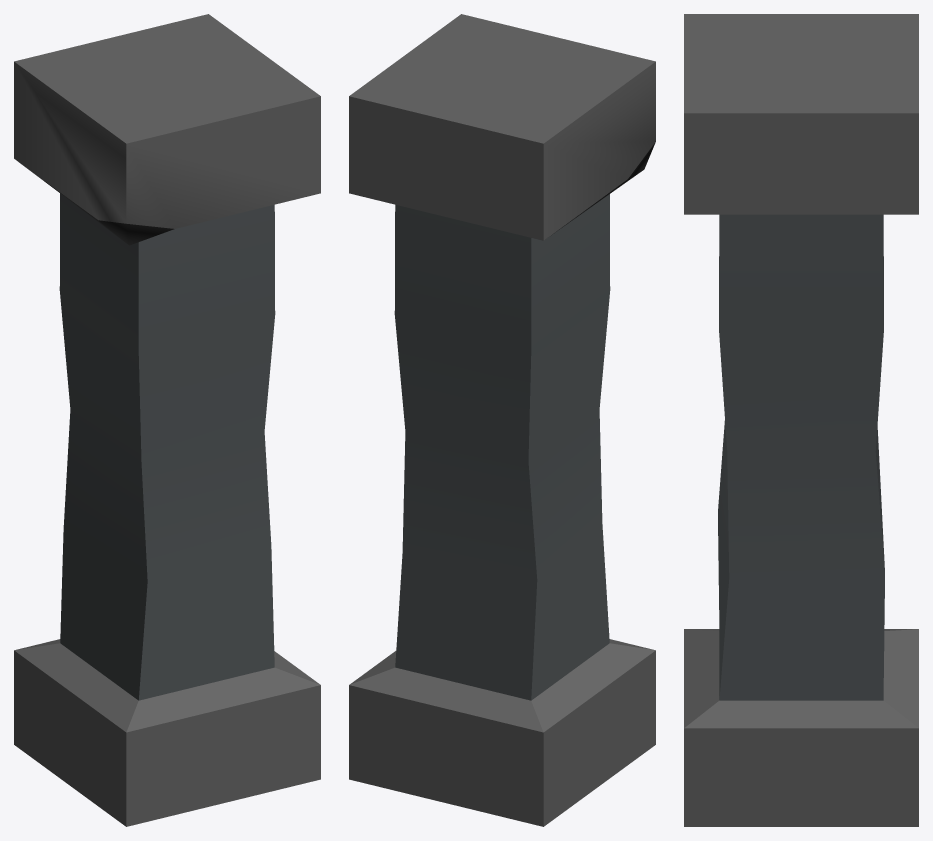
Rendered from Pillar.fbx.
3 renders of one model, left to right at view 1: azimuth 30°, elevation 25°; view 2: azimuth 150°, elevation 25°; view 3: azimuth 270°, elevation 25°, orthographic. The views are drawn at different scales.
Parts seen in each view (by area): view 1: Pillar; view 2: Pillar; view 3: Pillar.
Boxes of the visible parts, box(x1,y1,x2,y2) form: Pillar: box(14, 14, 320, 826); Pillar: box(349, 14, 655, 826); Pillar: box(684, 14, 918, 826).
Size of the model in its own units: 1 by 3.35 by 1.
Materials: 1 (1 with a texture image).
